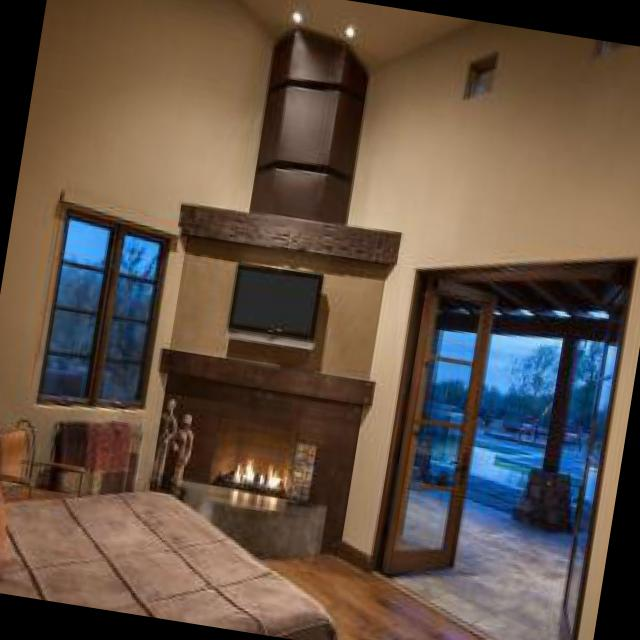fire: (230, 456, 304, 504)
